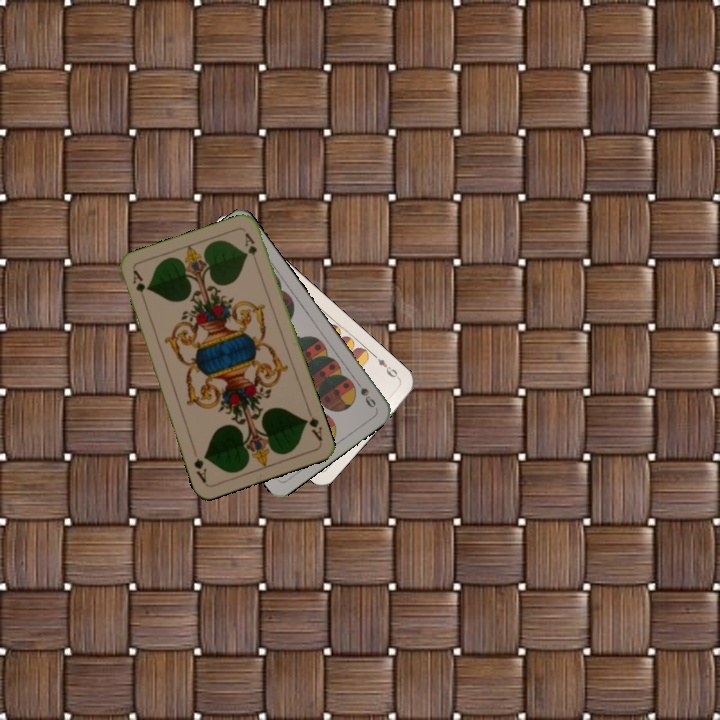E9: (369, 351, 402, 382)
GA: (300, 406, 325, 444), (129, 266, 149, 306)
S9: (350, 375, 378, 410)
